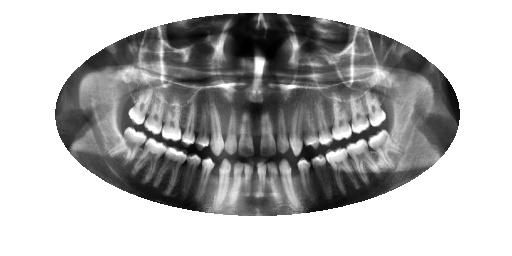Cavity: (260, 110, 276, 158), (239, 111, 254, 158)
Fillings: (129, 132, 168, 184), (345, 137, 382, 187), (322, 148, 359, 196), (151, 146, 187, 195), (364, 129, 405, 169), (108, 127, 148, 167), (125, 85, 153, 126), (361, 86, 388, 127), (160, 94, 183, 142), (145, 84, 166, 136), (345, 93, 370, 136), (333, 101, 353, 142)
